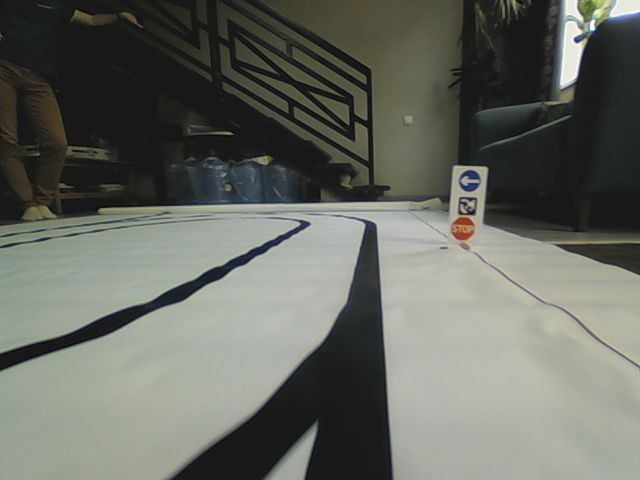Stop: (447, 217, 475, 244)
